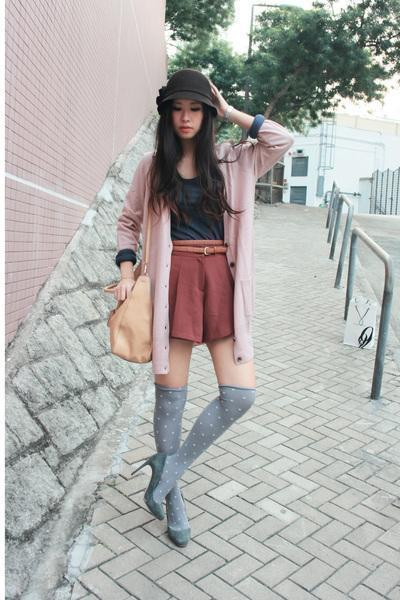bag: (101, 283, 154, 363)
hat: (159, 70, 220, 107)
jacket: (99, 118, 303, 385)
shirt: (164, 180, 223, 245)
shoe: (132, 455, 188, 554)
shorts: (169, 240, 235, 355)
